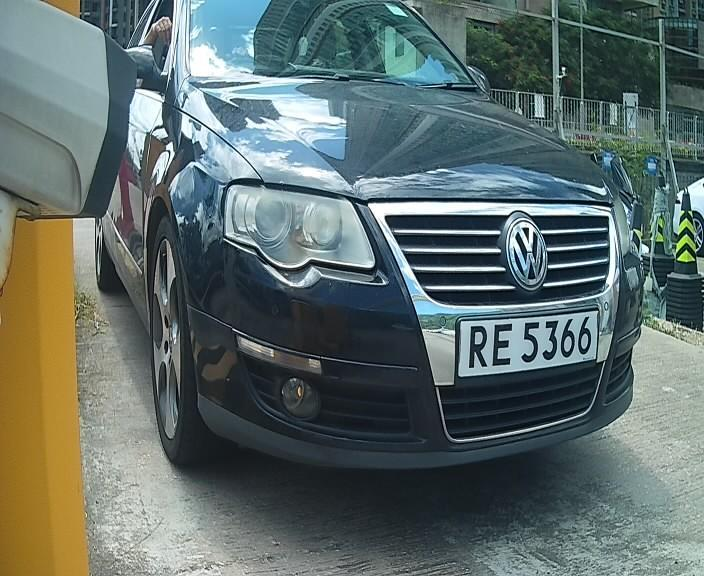privatecar: (57, 11, 686, 510)
